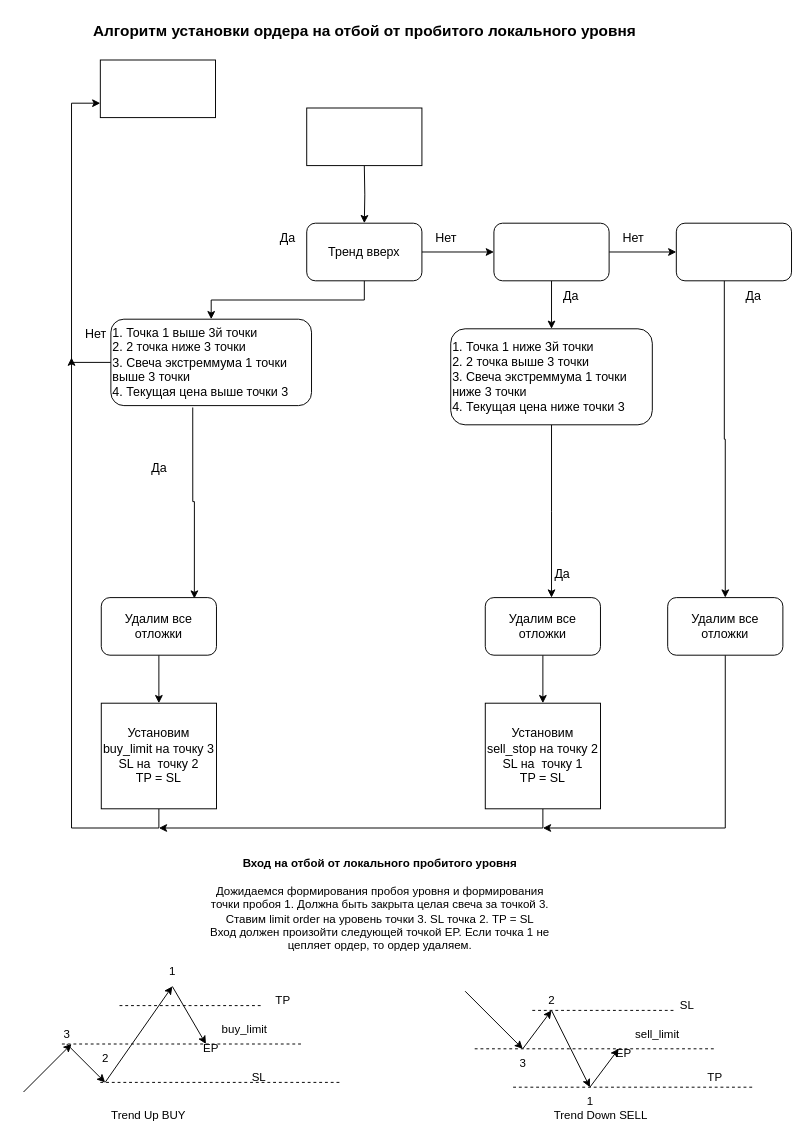
The diagram is 808 pixels wide and 1146 high, and some of its shapes have lost their labels. The shapes that lost their labels are listed below. From the top down, each one's centre as x and y in pixels, then its label:
At (x=157, y=88): "Выход".
At (x=364, y=136): "Старт".
At (x=551, y=251): "Тренд вниз".
At (x=733, y=251): "Флэт".
